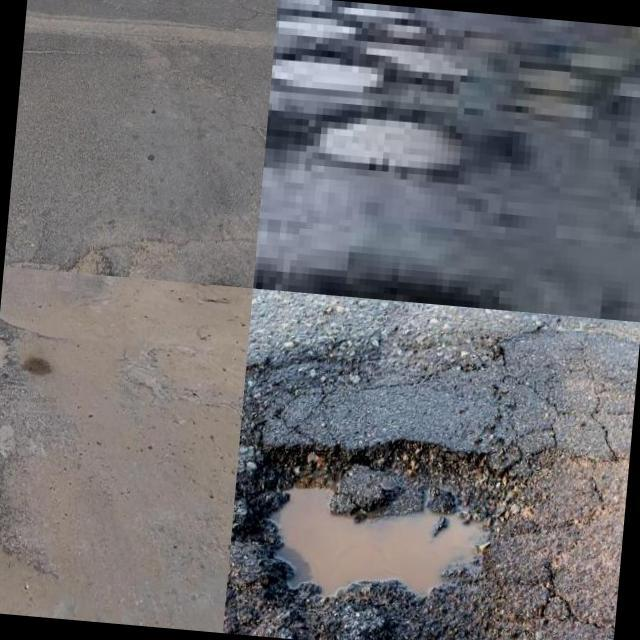Pothole: (235, 440, 500, 615), (271, 0, 427, 98), (319, 118, 460, 170), (556, 64, 608, 106)
